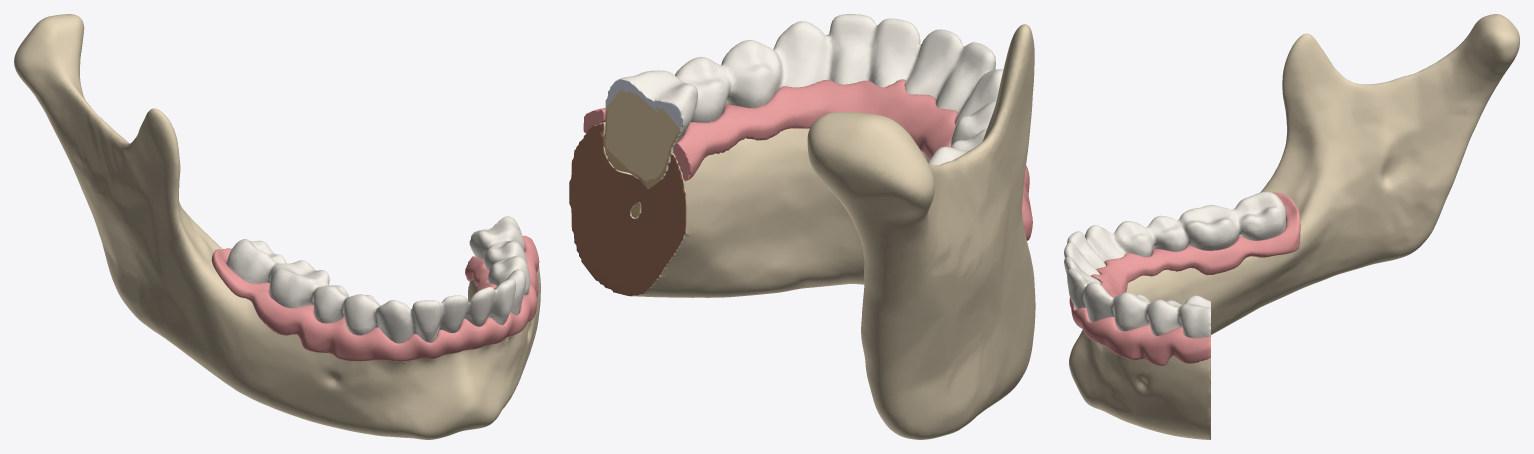
File: dentate-cut.glb
3 views of the same model, side by side, from view 1: azimuth 30°, elevation 25°; view 2: azimuth 150°, elevation 25°; view 3: azimuth 270°, elevation 25° (orthographic). The views are drawn at different scales.
Parts seen in each view (by area): view 1: bone, teeth, gum; view 2: bone, teeth, gum; view 3: bone, teeth, gum.
Boxes of the visible parts, <box> form: bone: <box>14,14,540,439</box>; teeth: <box>226,216,530,343</box>; gum: <box>211,235,539,361</box>; bone: <box>569,24,1035,439</box>; teeth: <box>603,14,1003,218</box>; gum: <box>583,79,1032,240</box>; bone: <box>1069,14,1519,439</box>; teeth: <box>1064,191,1286,337</box>; gum: <box>1069,192,1300,365</box>.
Bounding box in the file's own units: 86.86 × 68.41 × 96.84.
